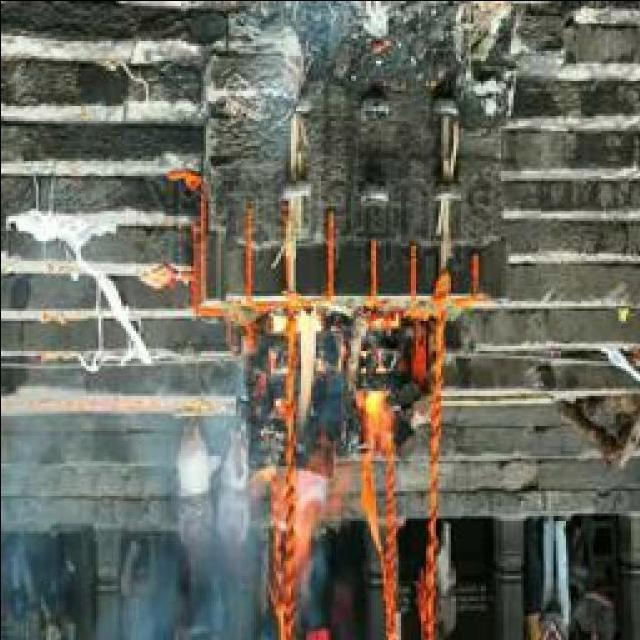Fire: (275, 307, 401, 553)
